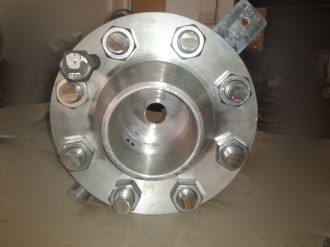bolt_a: (56, 47, 95, 83)
bolt_b: (54, 133, 98, 174), (212, 131, 252, 173), (167, 174, 207, 215), (168, 22, 209, 61), (98, 24, 139, 62), (215, 67, 253, 108), (105, 176, 144, 215), (53, 73, 92, 110)
